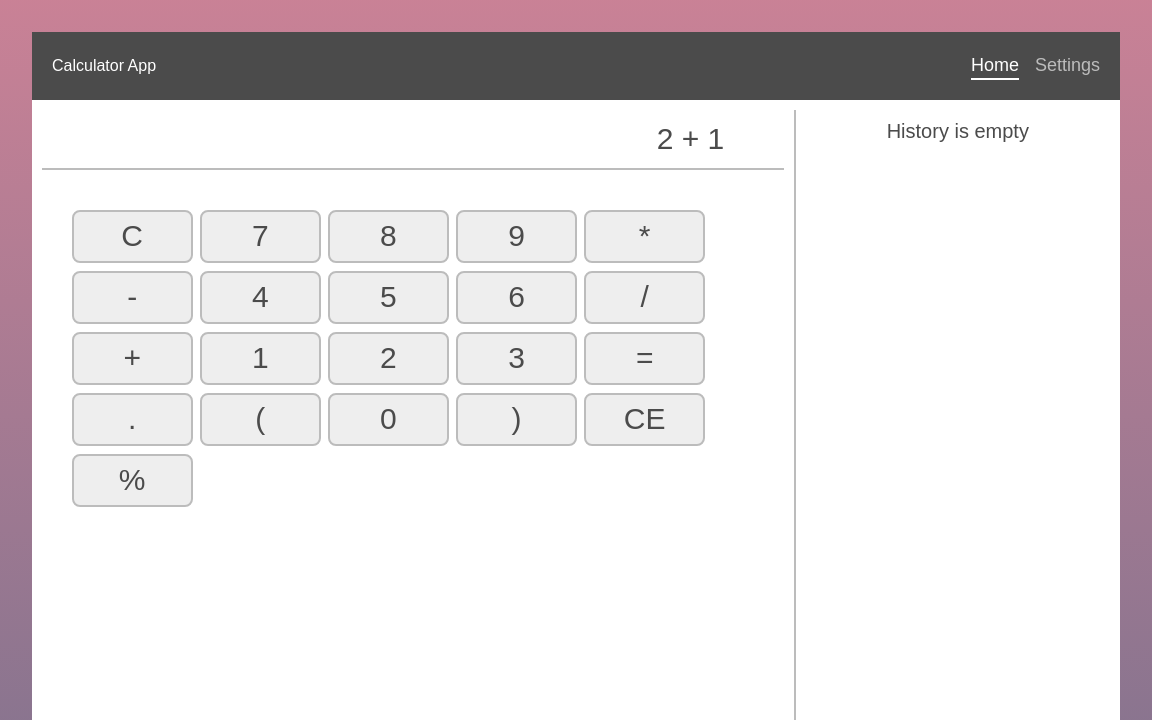
Scenario: History › should have history items when exist one operation
What coordinates should you click on to do the following:
click the button "C"
I would click on:
 (133, 237)
Its box is [72, 210, 193, 263].
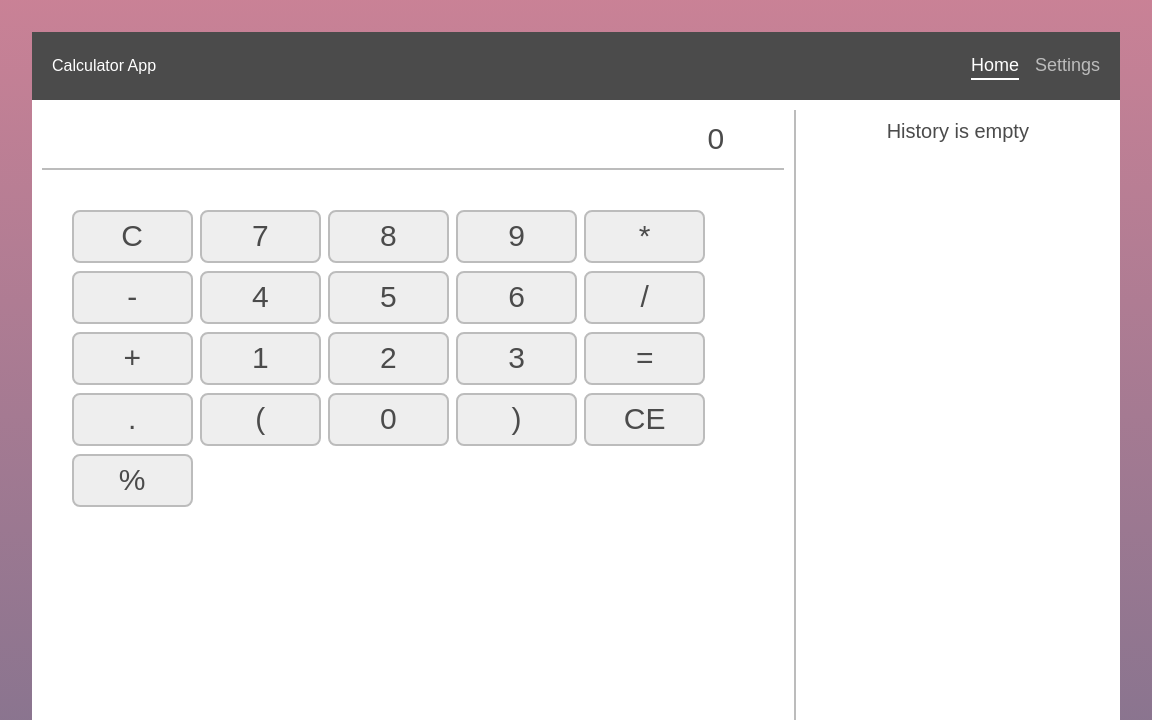
What coordinates should you click on to do the following:
click the button "2"
I would click on:
 (389, 359)
Its box is [328, 332, 449, 385].
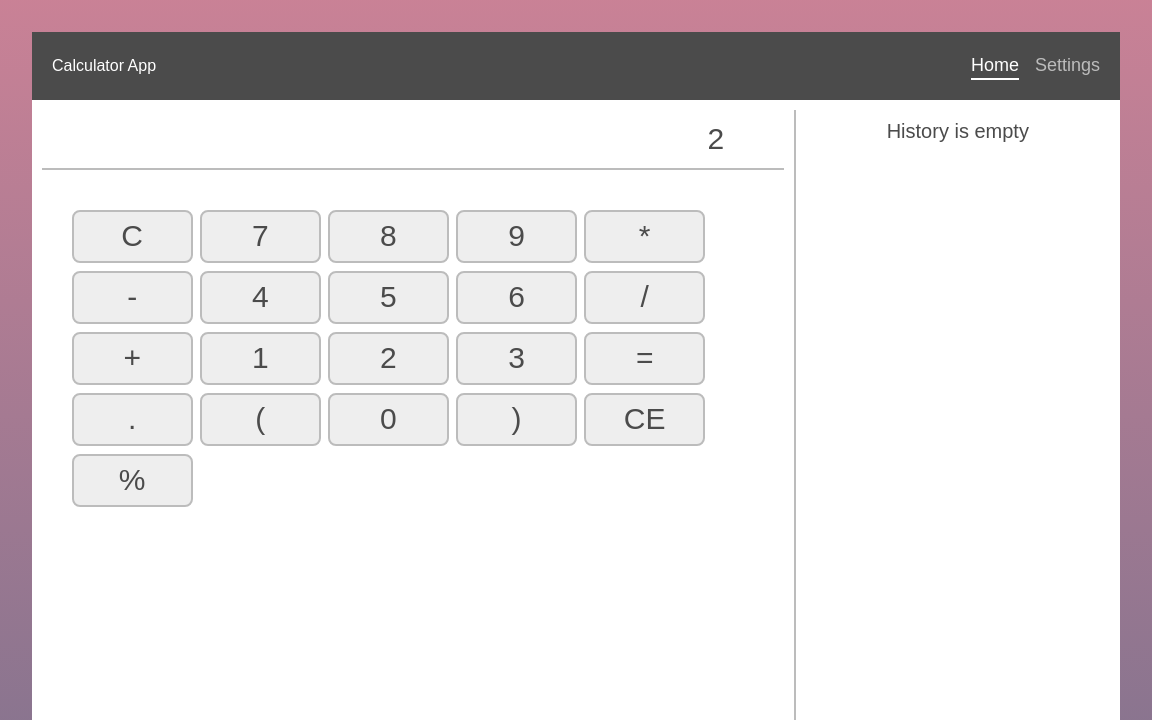
What coordinates should you click on to do the following:
click the button "+"
I would click on:
 (133, 359)
Its box is [72, 332, 193, 385].
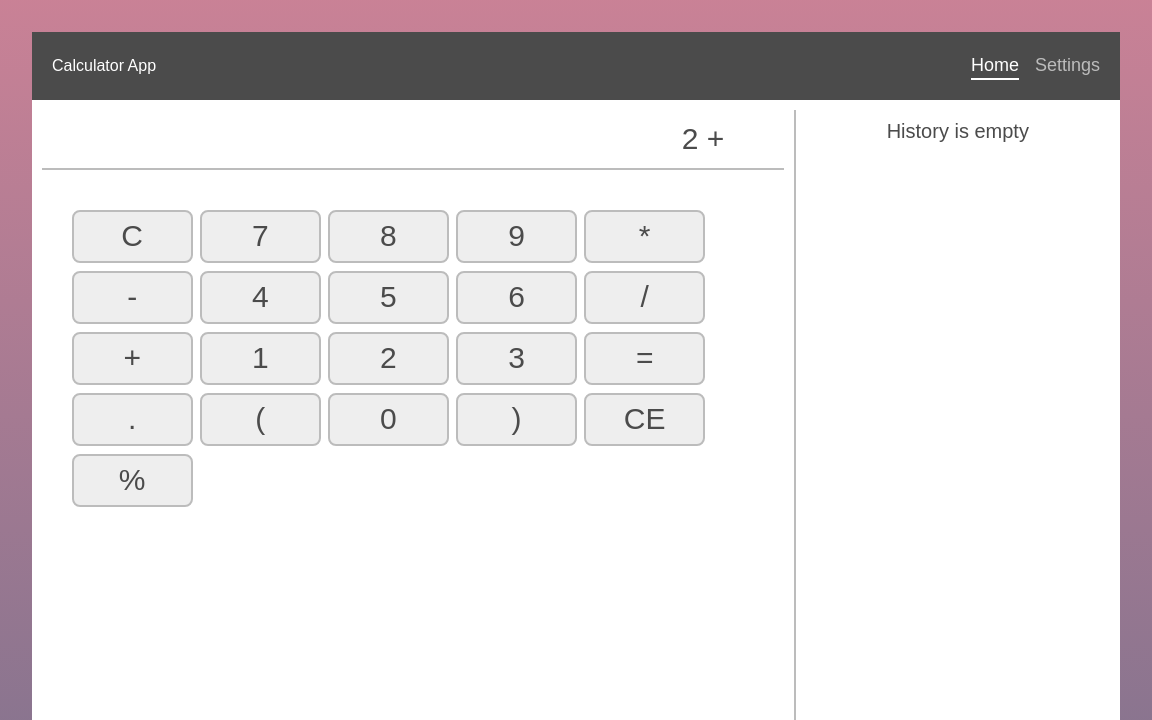
What coordinates should you click on to do the following:
click the button "1"
I would click on:
 (261, 359)
Its box is [200, 332, 321, 385].
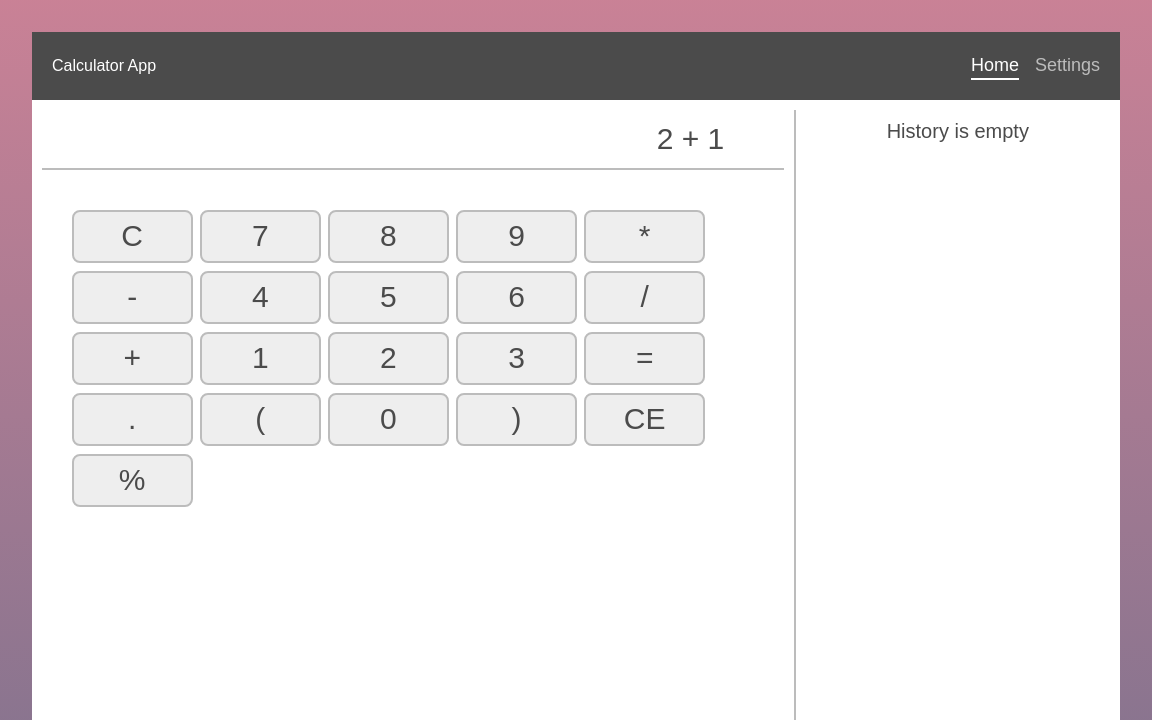
What coordinates should you click on to do the following:
click the button "="
I would click on:
 (645, 359)
Its box is [584, 332, 705, 385].
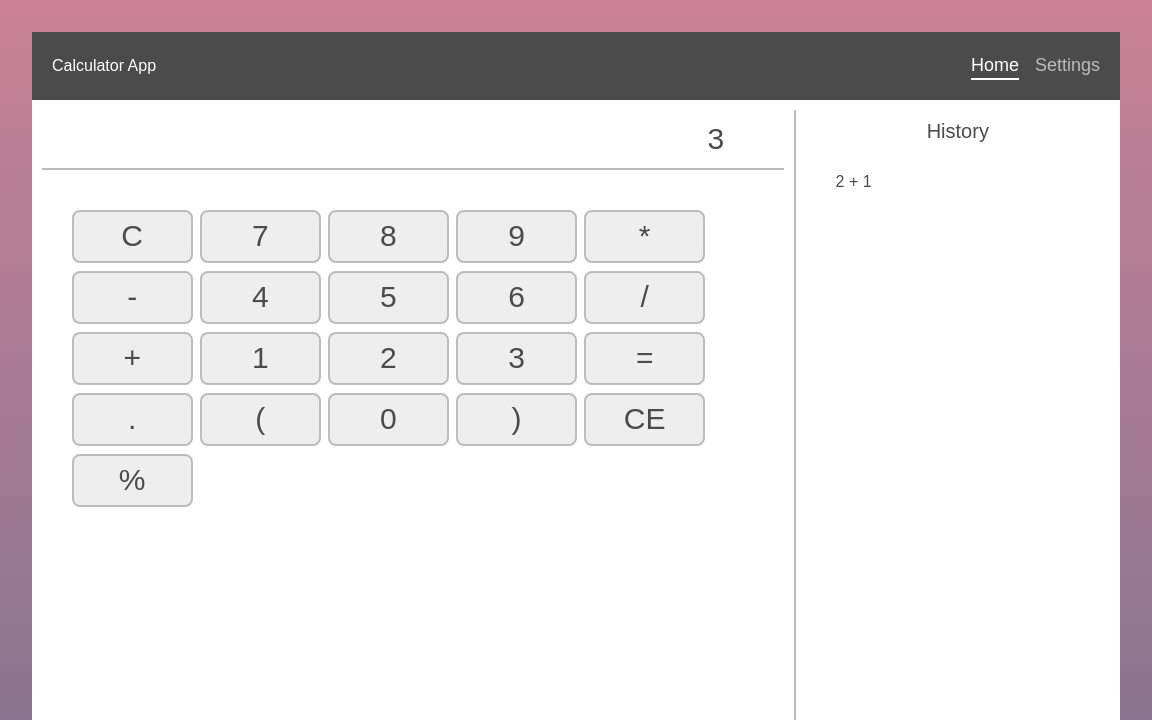
Check: the number of list items is 1, box [836, 173, 872, 191]
